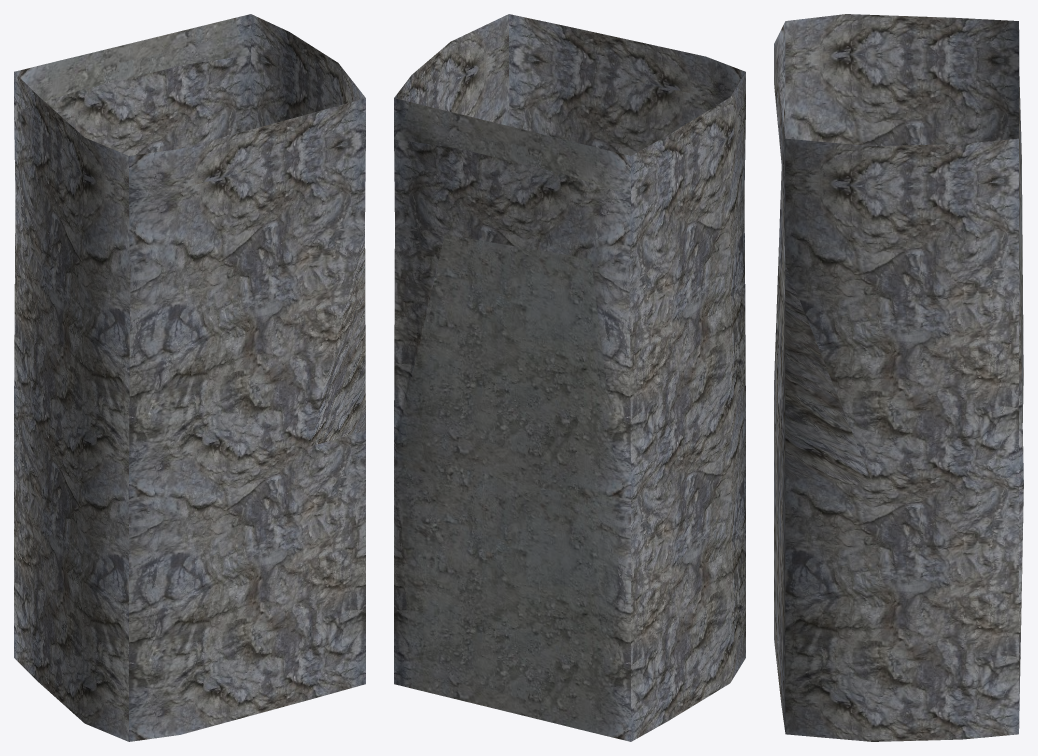
Rendered from Mine_Row.fbx.
3 renders of one model, left to right at view 1: azimuth 30°, elevation 25°; view 2: azimuth 150°, elevation 25°; view 3: azimuth 270°, elevation 25°, orthographic.
Parts seen in each view (by area): view 1: Mine_Elevator; view 2: Mine_Elevator; view 3: Mine_Elevator.
Boxes of the visible parts, <box> form: Mine_Elevator: <box>14,14,365,741</box>; Mine_Elevator: <box>394,14,745,741</box>; Mine_Elevator: <box>774,14,1023,741</box>.
Bounding box in the file's own units: 439 × 922 × 350.
